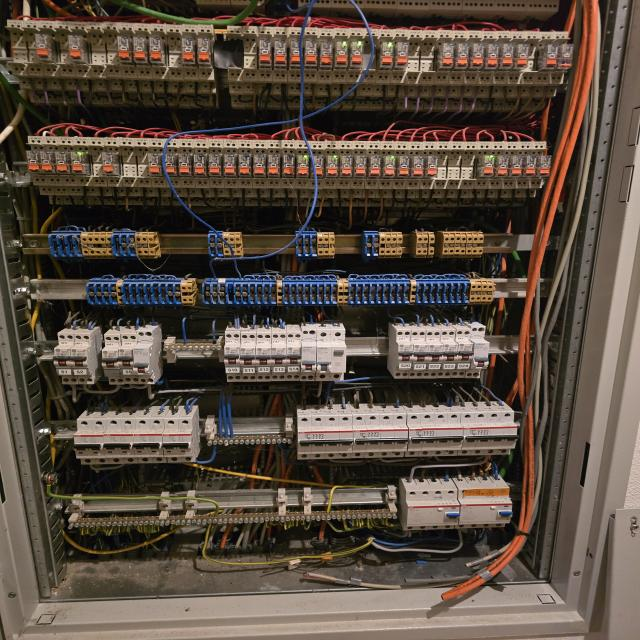FI: (401, 478, 460, 528), (459, 478, 513, 529)
FI_Sicherungskombi: (317, 328, 347, 382)
Relais: (67, 35, 86, 62), (35, 34, 52, 61), (148, 36, 164, 64), (181, 38, 197, 65), (101, 152, 119, 176), (116, 36, 132, 62), (133, 36, 149, 62), (198, 38, 212, 67), (349, 42, 365, 67), (259, 40, 273, 68), (304, 41, 318, 68), (380, 42, 394, 69), (71, 151, 87, 174), (319, 41, 333, 67), (274, 40, 287, 67), (395, 43, 409, 68), (456, 43, 470, 68), (471, 43, 485, 68), (40, 150, 55, 173), (515, 44, 529, 68), (163, 153, 177, 177), (478, 156, 493, 178), (56, 151, 70, 174), (148, 153, 162, 176), (208, 154, 222, 177), (336, 42, 348, 68), (291, 40, 302, 68), (26, 150, 40, 172), (502, 43, 514, 68), (560, 44, 572, 69), (253, 154, 266, 177), (486, 44, 498, 68), (194, 154, 206, 178), (268, 154, 280, 178), (283, 154, 295, 178), (178, 153, 191, 175), (223, 154, 236, 176), (238, 154, 250, 177), (442, 44, 454, 66), (297, 155, 309, 177), (312, 156, 324, 178), (340, 155, 352, 177), (546, 45, 557, 68), (355, 156, 367, 177), (510, 156, 522, 177), (384, 156, 395, 178), (496, 156, 508, 176), (538, 156, 550, 176), (369, 156, 380, 177), (427, 156, 438, 177), (525, 156, 536, 177), (412, 157, 424, 176), (327, 156, 338, 176), (398, 157, 409, 176)
Sicherungen_230V: (465, 326, 490, 378), (54, 333, 78, 385), (132, 331, 155, 385), (71, 333, 94, 384), (102, 334, 124, 385), (118, 334, 140, 384), (451, 328, 473, 378), (422, 329, 443, 379), (437, 329, 458, 378), (88, 418, 110, 464), (74, 419, 95, 464), (409, 329, 428, 378), (104, 418, 124, 464), (224, 331, 242, 382), (395, 329, 413, 379), (118, 418, 138, 463), (133, 418, 153, 463), (147, 418, 167, 463), (176, 418, 196, 462), (163, 418, 182, 462), (256, 331, 272, 382), (271, 331, 286, 381), (286, 331, 301, 381), (302, 329, 316, 381), (242, 331, 256, 381), (397, 329, 411, 332)
Sicherungen_400V: (297, 415, 352, 458), (353, 414, 407, 457), (408, 414, 462, 456), (463, 412, 517, 454)
Verbinder: (205, 278, 493, 304), (51, 230, 160, 258), (86, 278, 196, 304), (440, 231, 483, 257), (296, 231, 335, 259), (364, 231, 403, 258), (210, 231, 242, 259), (414, 231, 434, 259)
